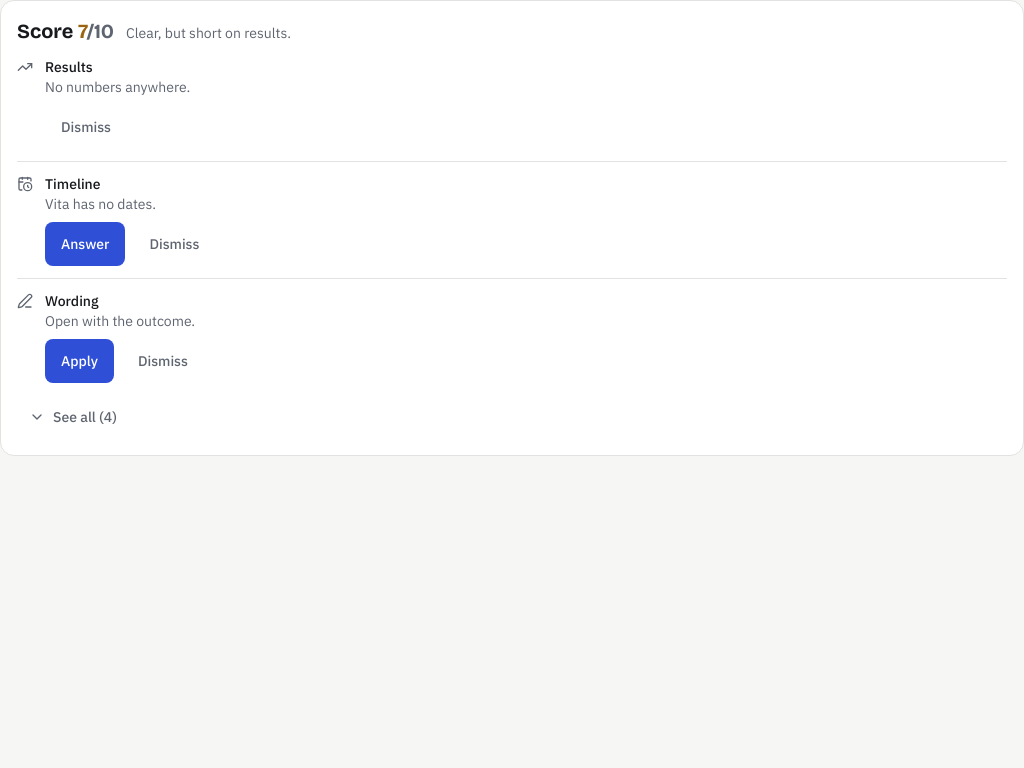
Test case: shows the score and the top three findings, high first, and expands to all
Expected: the element named "Recruiter review" shows "Score 7/10", top-left (0, 0), bottom-right (1023, 456)
Expected: the element named "Recruiter review" shows "Clear, but short on results.", top-left (126, 24), bottom-right (291, 42)
Click the button "See all (4)".
click(73, 417)  # box top-left (17, 395), bottom-right (129, 439)
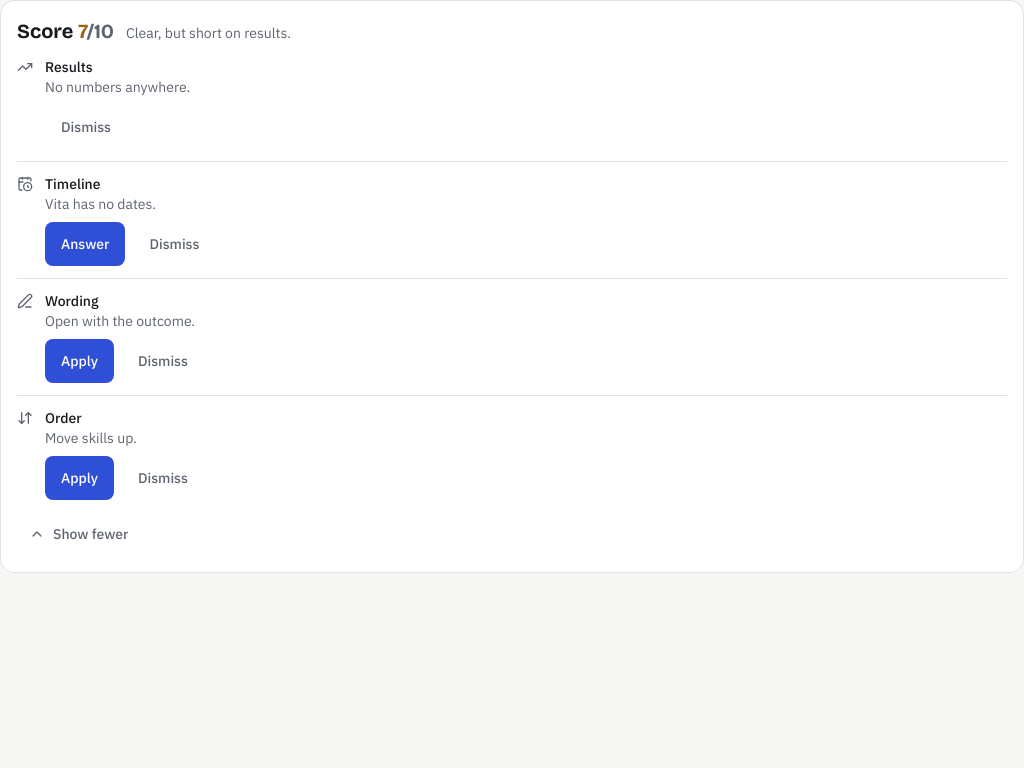
Now the number of list items is 4, box top-left (17, 57), bottom-right (1007, 162); top-left (17, 162), bottom-right (1007, 279); top-left (17, 279), bottom-right (1007, 396); top-left (17, 409), bottom-right (204, 500)
